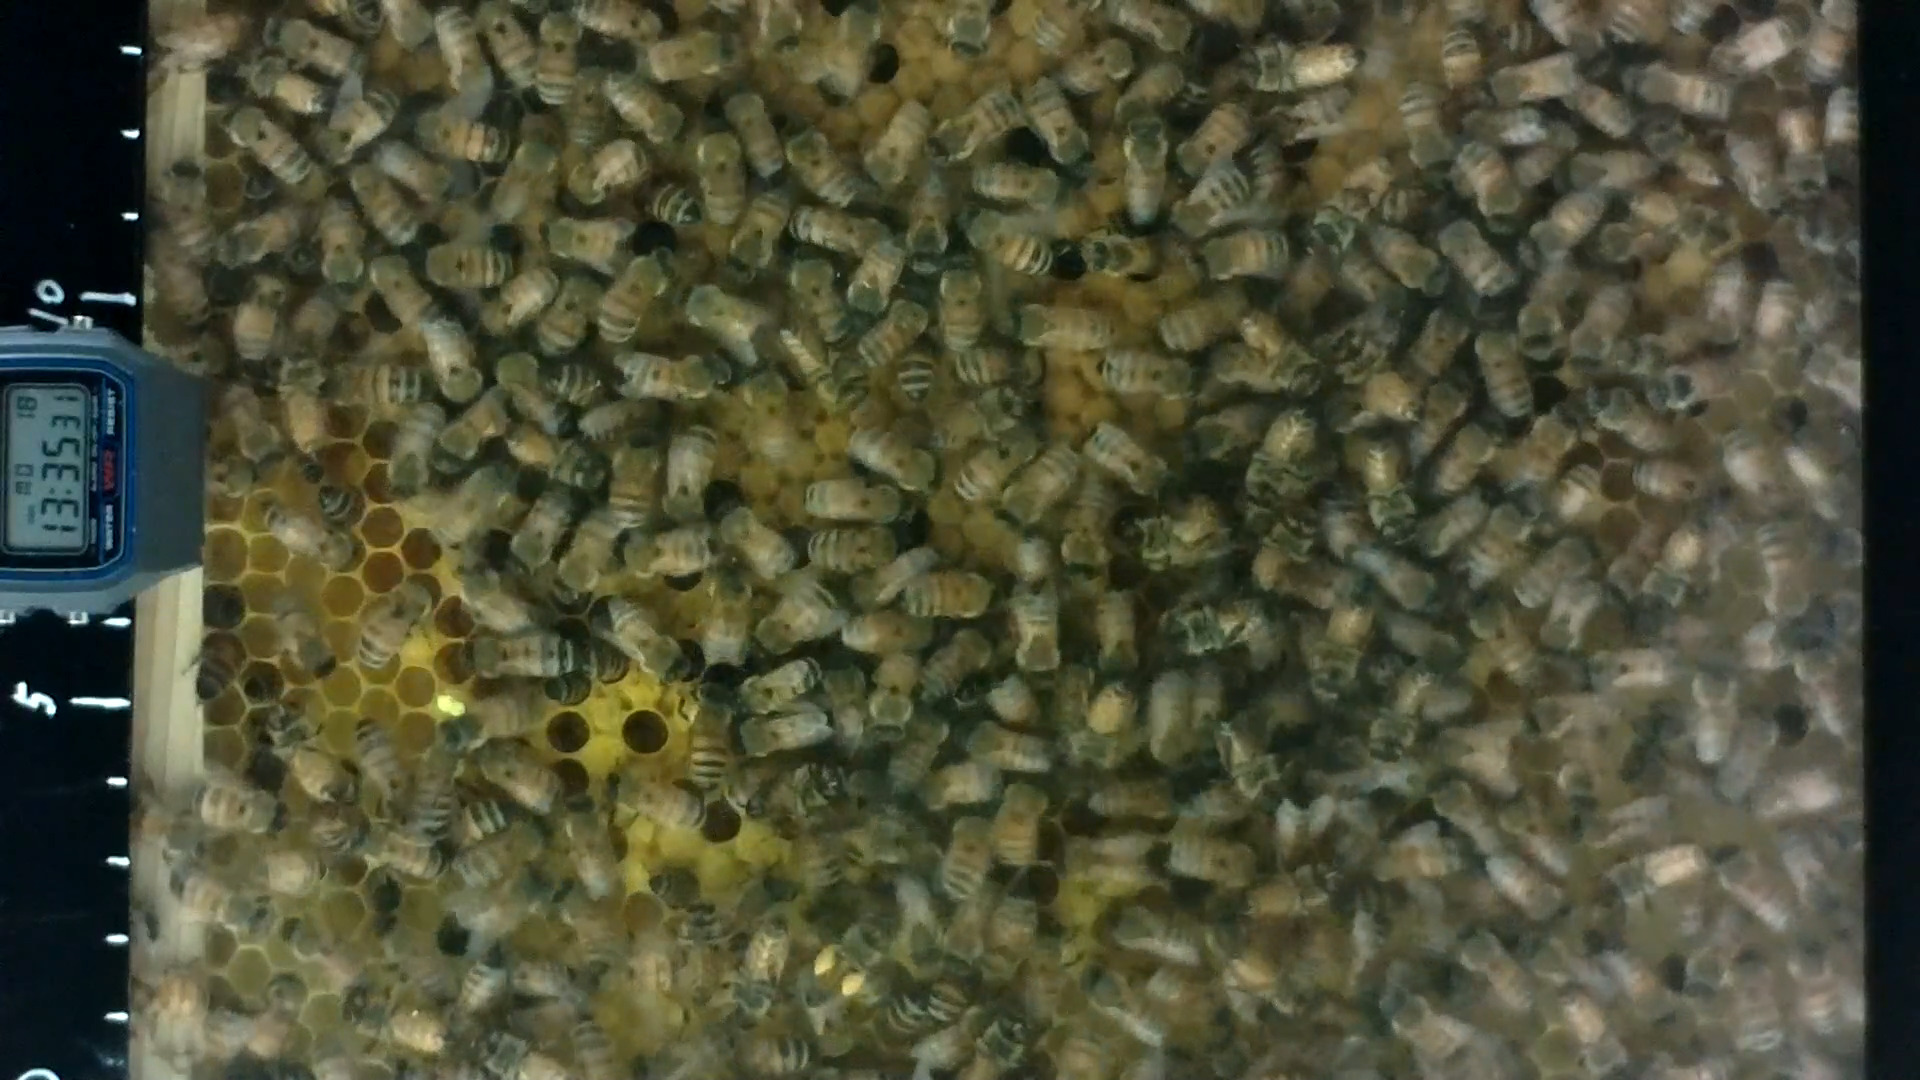hati: (165, 865, 281, 957), (252, 493, 361, 589), (218, 109, 315, 207), (949, 208, 1060, 286), (1626, 65, 1742, 132), (591, 604, 687, 684), (1081, 421, 1172, 505), (1091, 345, 1197, 415), (1215, 42, 1358, 94), (560, 502, 630, 608), (357, 582, 440, 669), (435, 688, 554, 749), (175, 778, 284, 843), (1431, 214, 1514, 295), (600, 774, 703, 839), (931, 90, 1017, 166), (1113, 116, 1164, 243), (676, 289, 771, 357), (1004, 299, 1120, 355), (595, 74, 687, 142), (757, 580, 844, 653), (717, 502, 790, 588), (785, 214, 902, 266), (407, 109, 512, 169), (781, 123, 856, 204), (1654, 353, 1746, 419), (1398, 78, 1452, 189), (868, 88, 922, 196), (413, 316, 479, 405), (1191, 229, 1292, 286), (626, 526, 723, 585), (613, 357, 727, 407), (531, 215, 629, 273), (465, 636, 582, 684), (1004, 589, 1058, 692), (229, 266, 285, 367), (998, 771, 1044, 891), (345, 727, 407, 815), (324, 359, 433, 409), (563, 794, 611, 907), (415, 237, 512, 293), (798, 524, 895, 576), (1477, 320, 1526, 425), (680, 688, 733, 785), (1025, 84, 1083, 171), (695, 123, 741, 231), (534, 13, 588, 105), (940, 816, 996, 905), (316, 196, 367, 294), (731, 712, 825, 761), (798, 480, 910, 520), (899, 570, 985, 621), (952, 349, 1048, 394)
